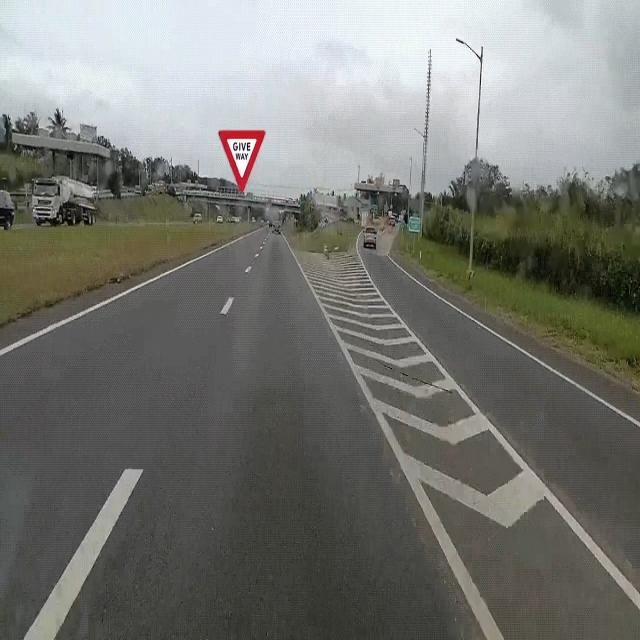Ceder-le-Passage: (210, 118, 268, 198)
